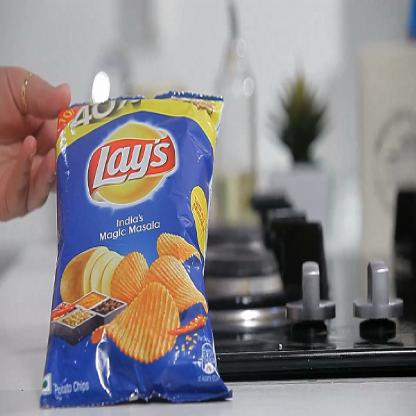potatochip: (37, 86, 236, 410)
